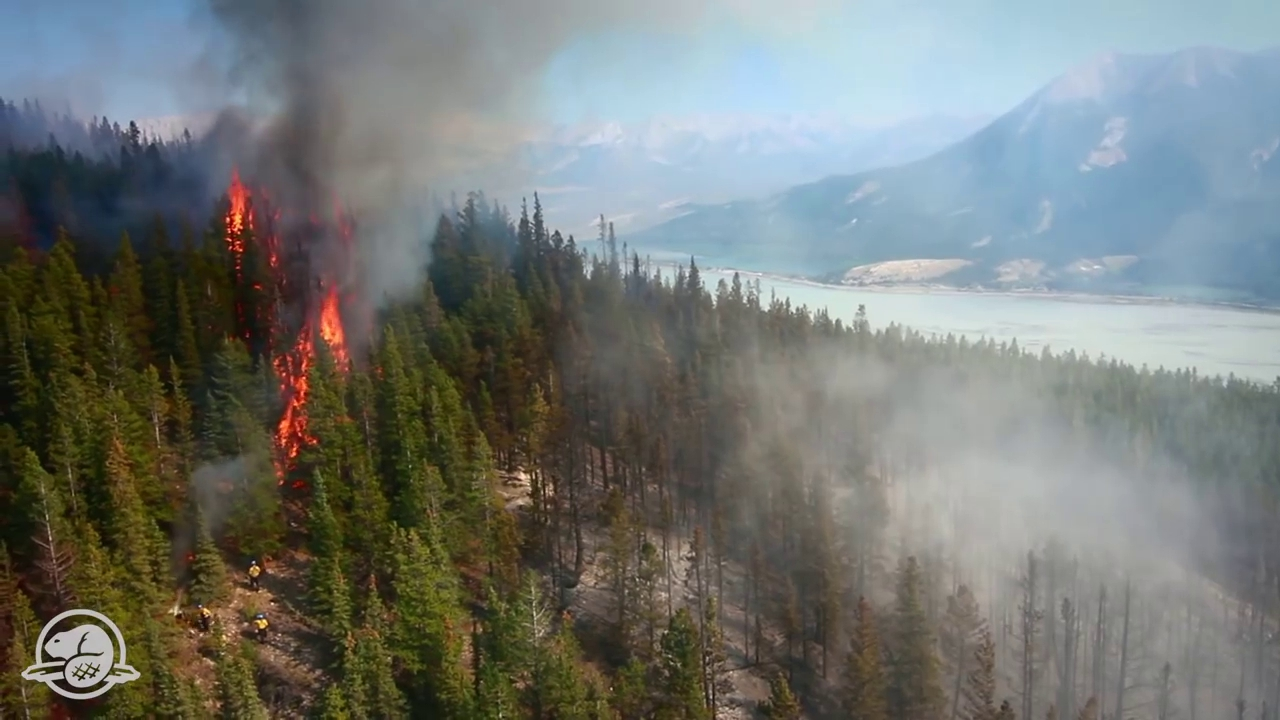forest_fire: (236, 275, 349, 477), (224, 170, 292, 297)
